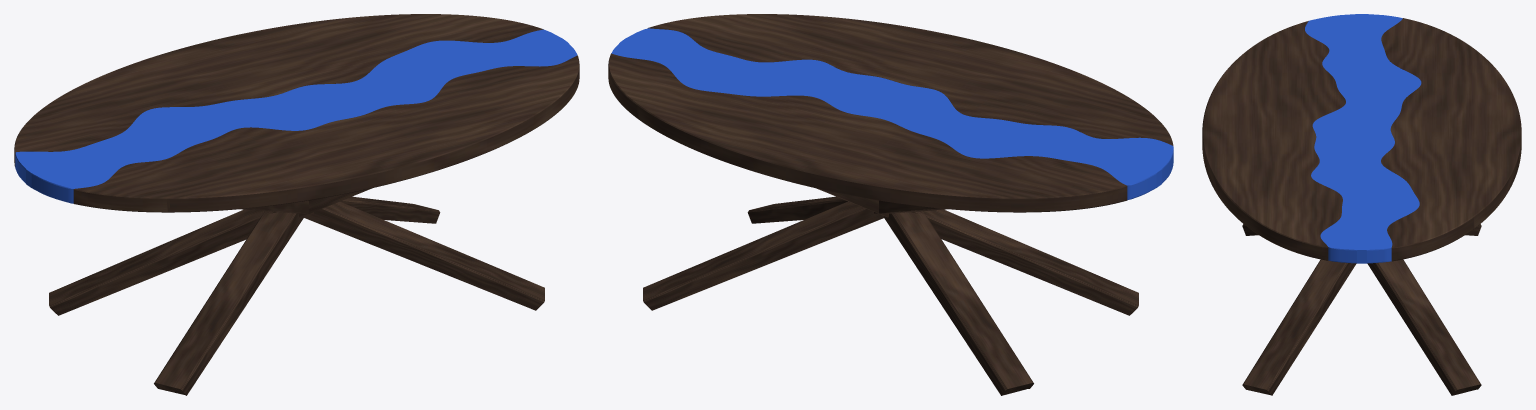
File: ellipse-walnut-epoxy-sapphire.glb
3 views of the same model, side by side, from view 1: azimuth 30°, elevation 25°; view 2: azimuth 150°, elevation 25°; view 3: azimuth 270°, elevation 25° (orthographic). The views are drawn at different scales.
Parts seen in each view (by area): view 1: Wood_Ellipse_EpoxyFar, Wood_Ellipse_EpoxyNear, Base_Ellipse, Resin_Ellipse; view 2: Wood_Ellipse_EpoxyNear, Wood_Ellipse_EpoxyFar, Base_Ellipse, Resin_Ellipse; view 3: Wood_Ellipse_EpoxyNear, Wood_Ellipse_EpoxyFar, Resin_Ellipse, Base_Ellipse.
Boxes of the visible parts, x1,y1,x2,y2 form: Wood_Ellipse_EpoxyFar: (73, 55, 579, 212); Wood_Ellipse_EpoxyNear: (14, 14, 543, 166); Base_Ellipse: (49, 188, 544, 395); Resin_Ellipse: (15, 29, 577, 203); Wood_Ellipse_EpoxyNear: (608, 53, 1127, 212); Wood_Ellipse_EpoxyFar: (647, 14, 1173, 145); Base_Ellipse: (643, 188, 1138, 395); Resin_Ellipse: (611, 28, 1173, 200); Wood_Ellipse_EpoxyNear: (1381, 18, 1521, 261); Wood_Ellipse_EpoxyFar: (1202, 21, 1345, 260); Resin_Ellipse: (1305, 14, 1421, 263); Base_Ellipse: (1242, 224, 1481, 395).
Size of the model in its own units: 2.13 by 0.762 by 1.22.
3 materials, 2 textured.
